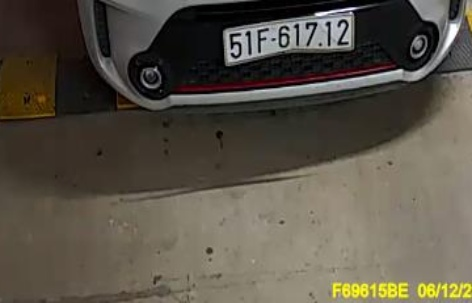plate: (221, 10, 359, 68)
